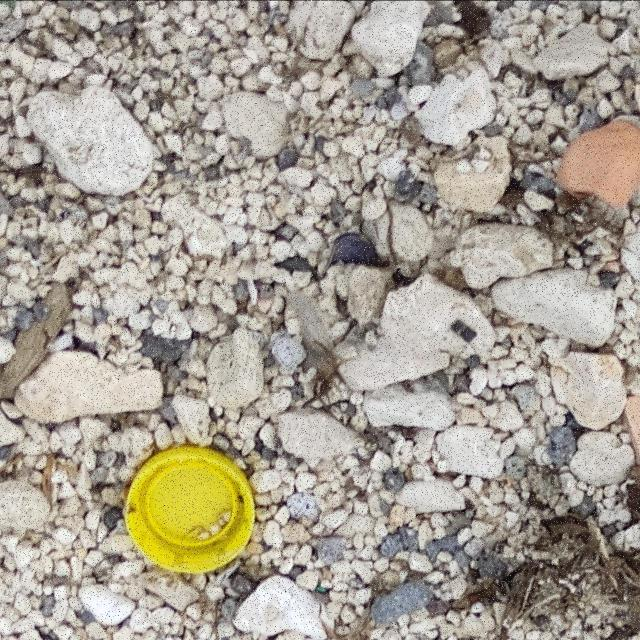plastic_waste: (124, 445, 259, 575)
